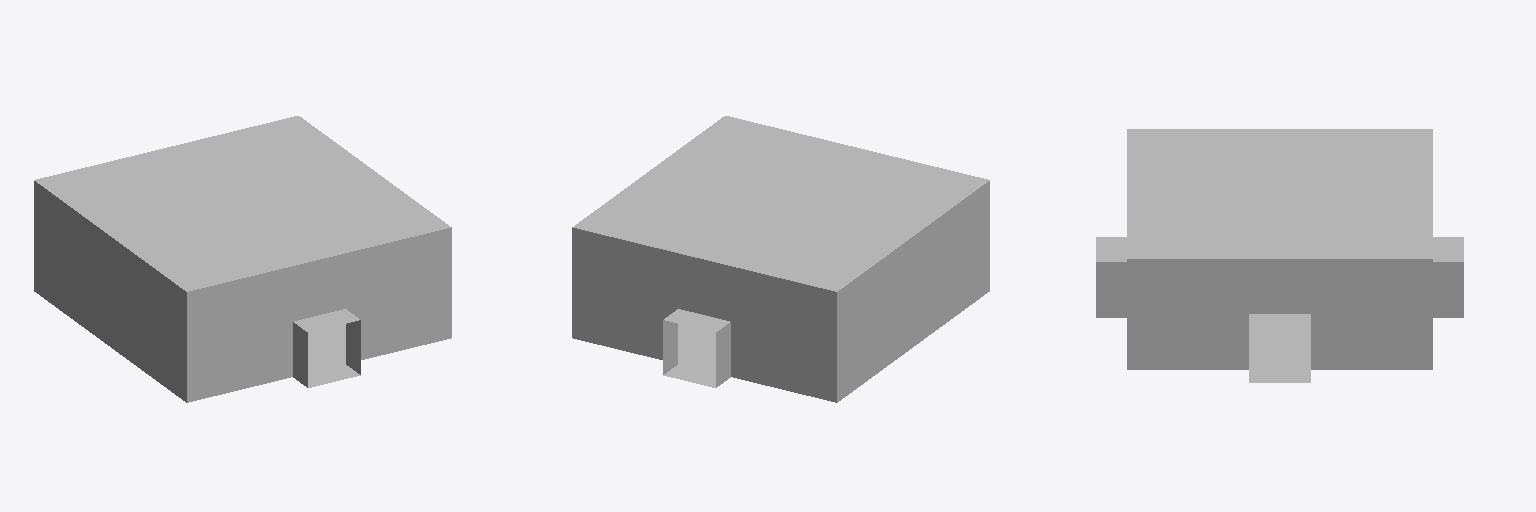
File: Hab4.obj
The picture shows the model from 3 angles: view 1: azimuth 30°, elevation 25°; view 2: azimuth 150°, elevation 25°; view 3: azimuth 270°, elevation 25°; orthographic projection.
Visible parts, largest first — view 1: Cubo; view 2: Cubo; view 3: Cubo.
Part boxes in pixels (x1,y1,x2,y2): Cubo: (34,116,451,402); Cubo: (572,116,989,402); Cubo: (1096,129,1463,382).
Size of the model in its own units: 11 by 4 by 12.